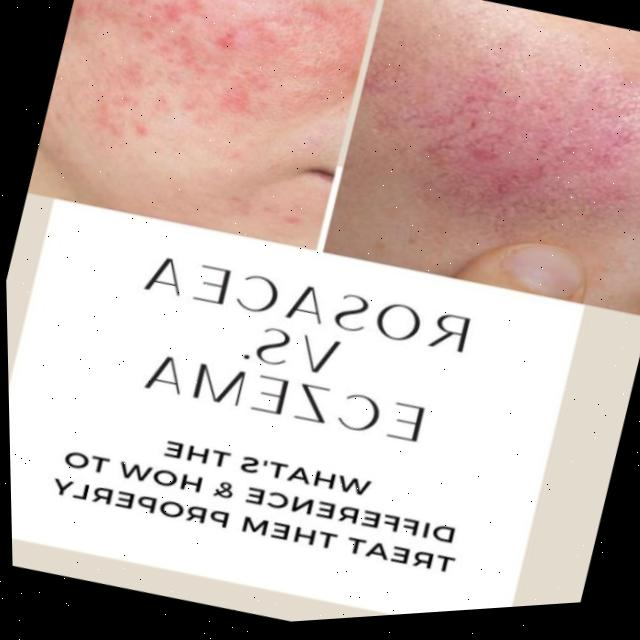Eczema: (44, 0, 342, 178)
Rosacea: (385, 4, 640, 235)
